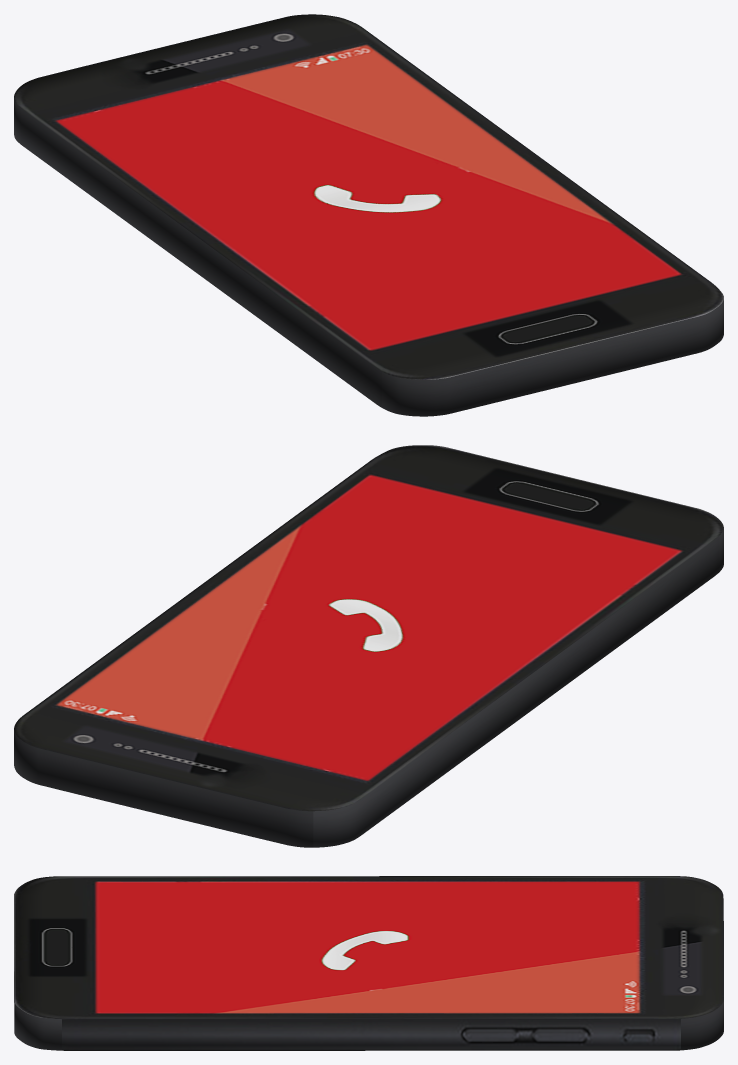
The model's file is Phone 1.FBX.
3 views of the same model, one above another, from view 1: azimuth 30°, elevation 25°; view 2: azimuth 150°, elevation 25°; view 3: azimuth 270°, elevation 25° (orthographic). The views are drawn at different scales.
Visible parts, largest first — view 1: Phone 1; view 2: Phone 1; view 3: Phone 1.
Boxes of the visible parts, <box> form: Phone 1: <box>14,14,723,416</box>; Phone 1: <box>14,445,723,847</box>; Phone 1: <box>14,876,723,1050</box>.
Bounding box in the file's own units: 7.25 × 0.7445 × 15.17.
Materials: 1 (1 with a texture image).
